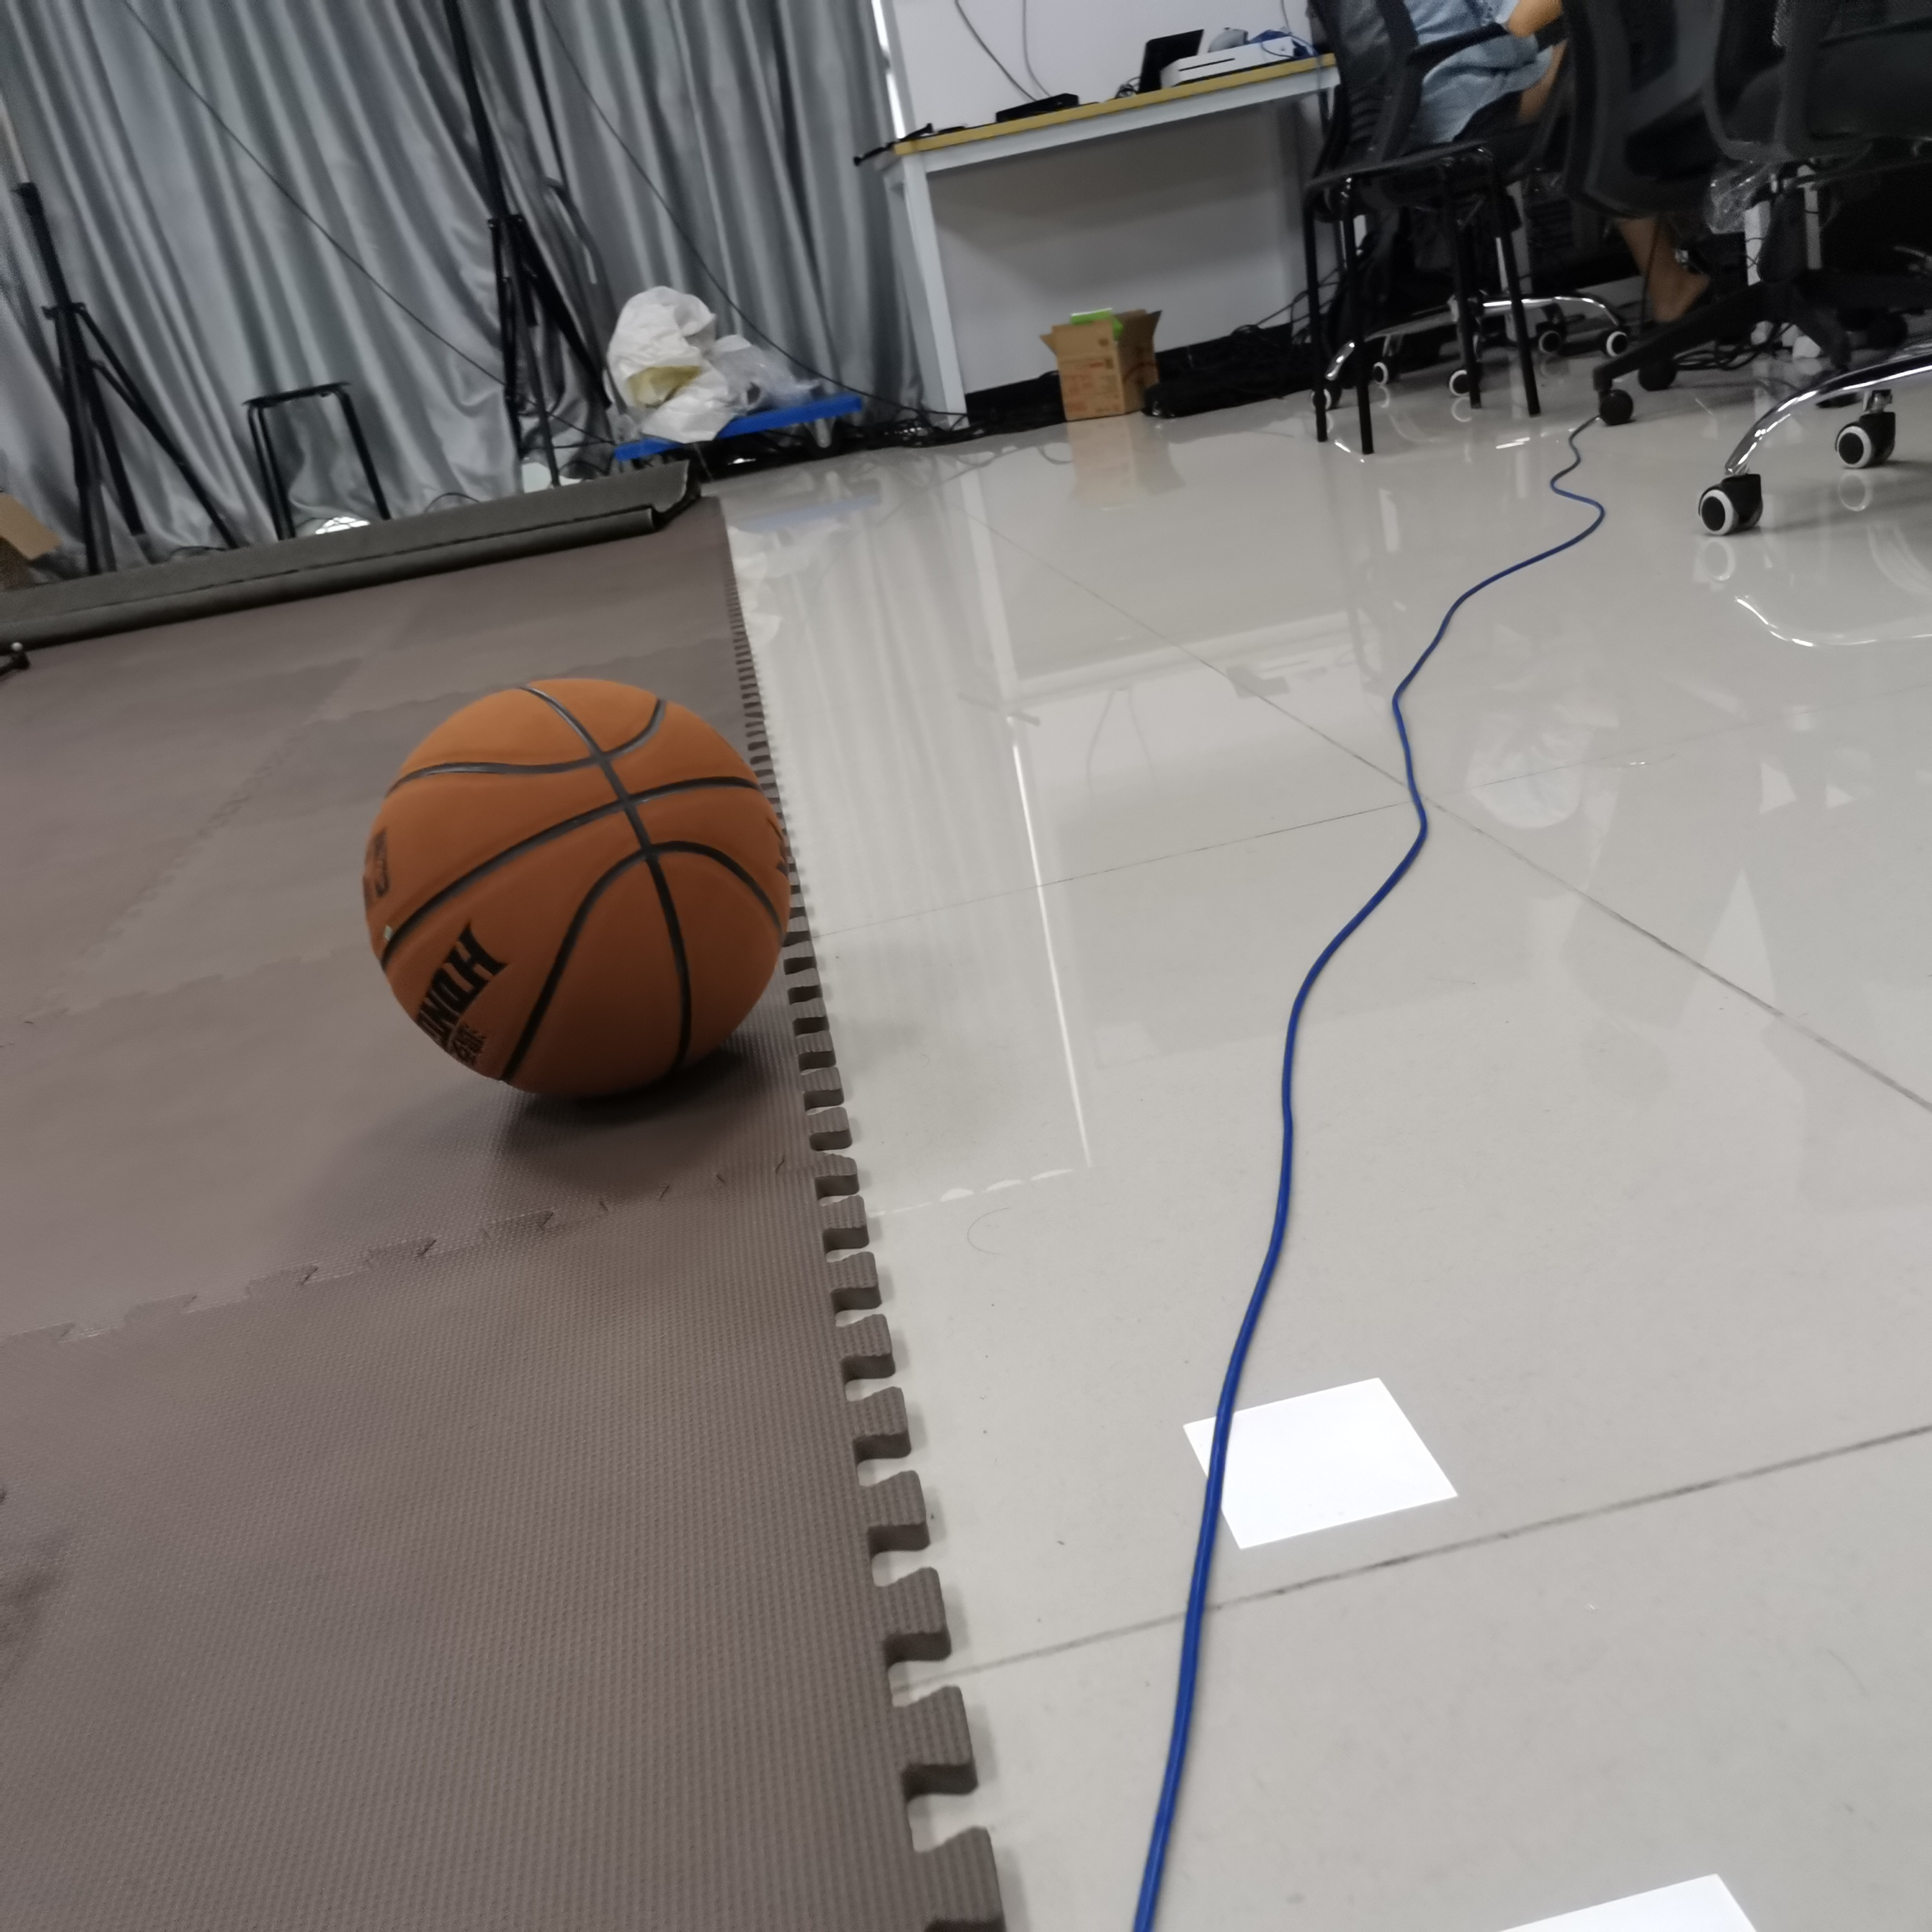basketball: (359, 678, 796, 1097)
